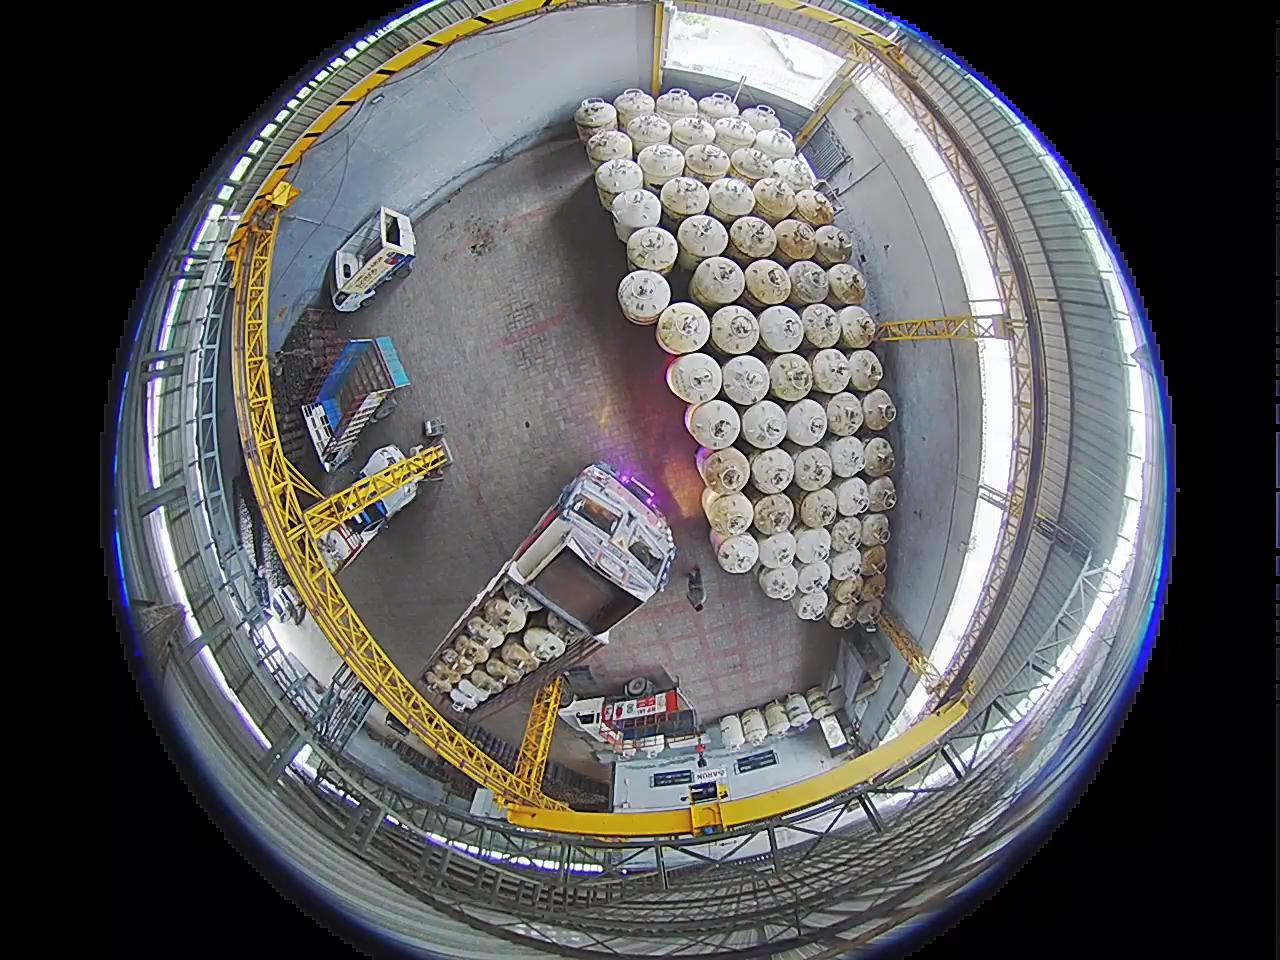cylinder: (620, 271, 687, 339), (689, 255, 744, 308), (666, 352, 722, 403), (687, 397, 742, 449), (710, 305, 762, 355), (612, 190, 661, 243), (720, 355, 771, 405), (676, 213, 729, 262), (697, 446, 750, 495), (741, 399, 790, 451), (757, 305, 806, 354), (626, 225, 675, 273), (745, 258, 794, 306), (595, 156, 644, 202), (637, 142, 686, 188), (708, 176, 757, 222), (659, 175, 710, 220), (750, 446, 796, 493), (767, 353, 813, 399), (729, 215, 777, 259), (706, 491, 754, 535), (585, 127, 633, 171), (752, 176, 798, 221), (920, 131, 980, 165), (785, 398, 828, 445), (773, 219, 819, 262), (790, 445, 834, 491), (625, 112, 673, 153), (683, 143, 731, 185), (669, 115, 717, 156), (787, 260, 830, 305), (573, 97, 617, 141), (810, 348, 853, 393), (752, 492, 795, 535), (836, 305, 877, 350), (799, 304, 842, 347), (655, 87, 699, 128), (824, 391, 865, 437), (826, 434, 867, 479), (712, 115, 757, 155), (826, 262, 868, 306), (716, 533, 760, 574), (798, 487, 840, 529), (731, 145, 775, 184), (813, 226, 854, 267), (792, 525, 833, 567), (612, 89, 653, 128), (793, 188, 836, 226), (848, 348, 885, 391), (523, 627, 567, 664), (833, 475, 871, 516), (757, 531, 798, 570), (861, 387, 898, 430), (770, 157, 812, 195), (754, 127, 797, 163), (483, 597, 524, 632), (696, 92, 739, 126), (758, 564, 797, 600), (862, 436, 897, 476), (740, 104, 780, 136), (795, 559, 830, 595), (792, 587, 828, 621), (829, 515, 864, 552), (468, 617, 506, 649), (865, 475, 897, 512), (501, 640, 538, 673), (828, 548, 863, 582), (826, 597, 861, 630), (860, 512, 892, 548), (454, 635, 489, 666), (740, 707, 769, 743), (486, 657, 522, 686), (438, 649, 473, 679), (545, 612, 580, 641), (470, 668, 505, 696), (784, 692, 813, 725), (719, 713, 746, 748), (830, 576, 863, 605), (859, 544, 888, 576), (807, 686, 836, 719), (764, 702, 791, 736), (709, 528, 736, 563), (701, 487, 725, 526), (859, 571, 886, 600), (425, 669, 456, 695), (856, 599, 883, 626)
truck: (426, 454, 676, 713), (299, 337, 410, 472), (329, 204, 418, 315), (550, 692, 701, 743)
